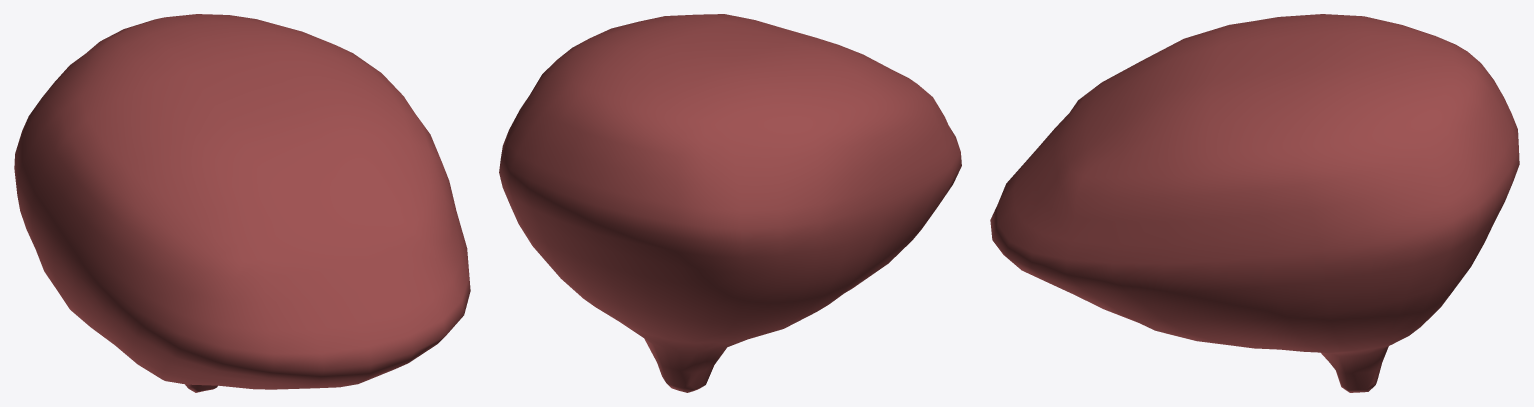
The model's file is bladder.glb.
3 views of the same model, side by side, from view 1: azimuth 30°, elevation 25°; view 2: azimuth 150°, elevation 25°; view 3: azimuth 270°, elevation 25° (orthographic). The views are drawn at different scales.
Visible parts, largest first — view 1: Bladder_Blaas; view 2: Bladder_Blaas; view 3: Bladder_Blaas.
Part boxes in pixels (x1,y1,x2,y2): Bladder_Blaas: (14, 14, 470, 392); Bladder_Blaas: (499, 14, 961, 392); Bladder_Blaas: (990, 14, 1519, 392).
Size of the model in its own units: 5.93e-09 by 5.5e-09 by 7.73e-09.
